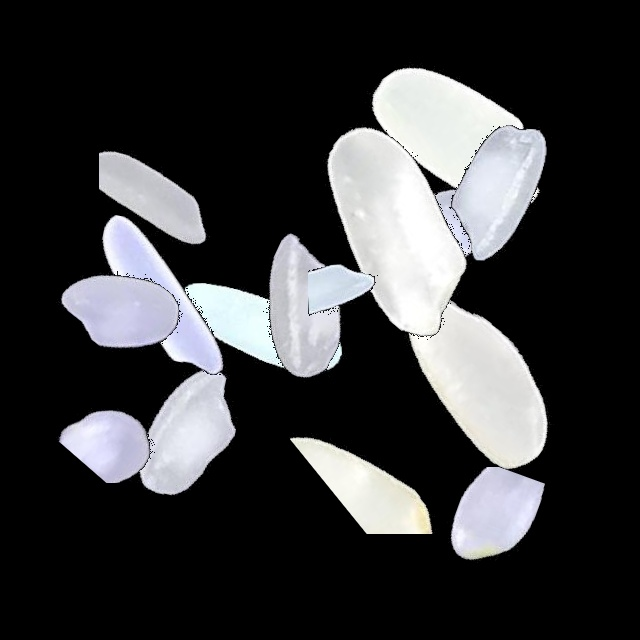Broken: (55, 153, 229, 403), (99, 54, 269, 304), (359, 467, 609, 631), (7, 344, 257, 483), (272, 405, 522, 534), (308, 169, 430, 419)
Full: (309, 99, 559, 349), (139, 201, 389, 451), (66, 309, 316, 559), (337, 13, 587, 263), (374, 69, 624, 319), (40, 168, 290, 418), (352, 255, 602, 505), (267, 107, 517, 357), (178, 185, 428, 435)
